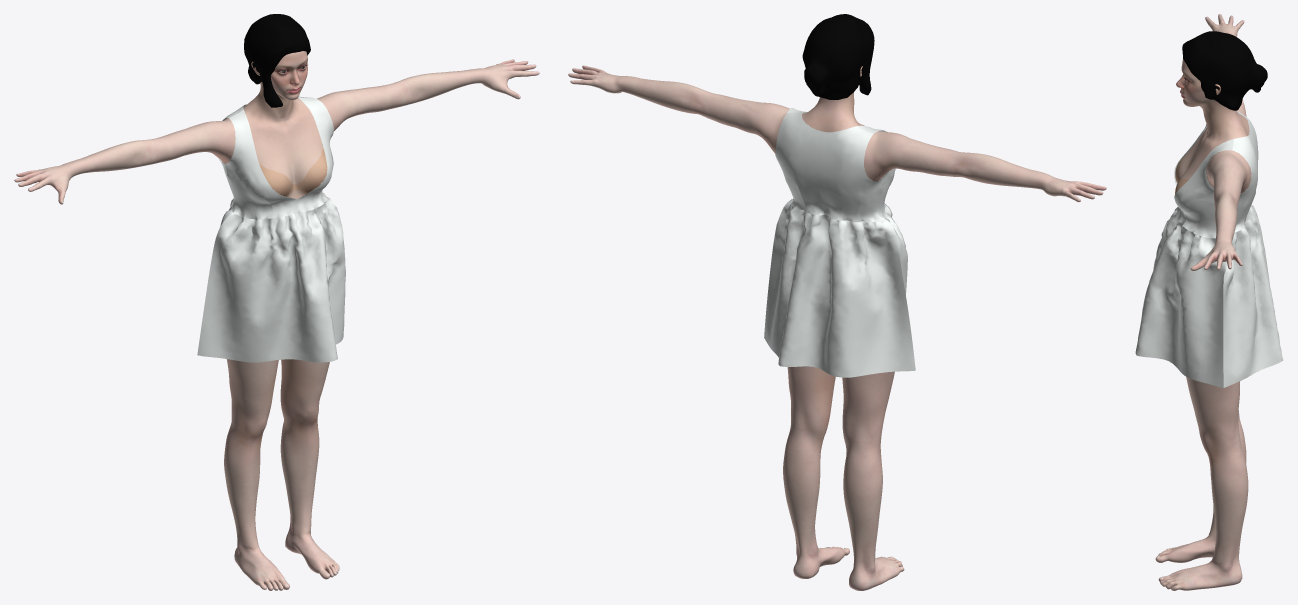
The model's file is Dynamic.obj.
3 views of the same model, side by side, from view 1: azimuth 30°, elevation 25°; view 2: azimuth 150°, elevation 25°; view 3: azimuth 270°, elevation 25° (orthographic). The views are drawn at different scales.
Bounding box in the file's own units: 1745 × 1762 × 440.
